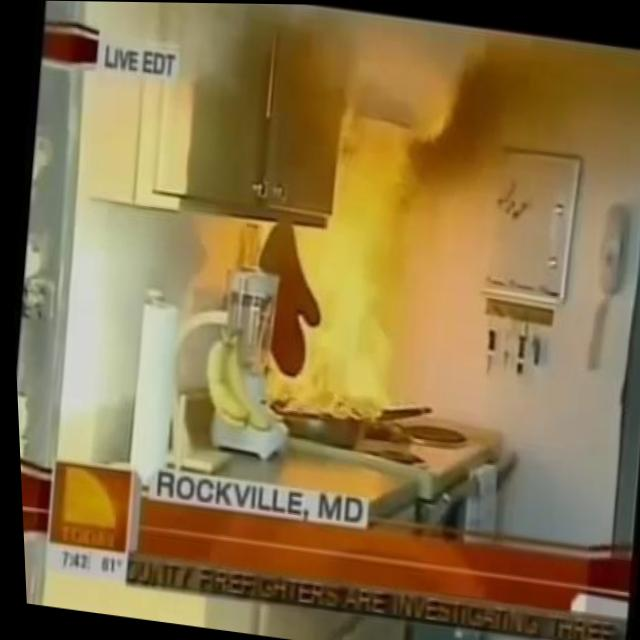fire: (274, 221, 404, 433)
